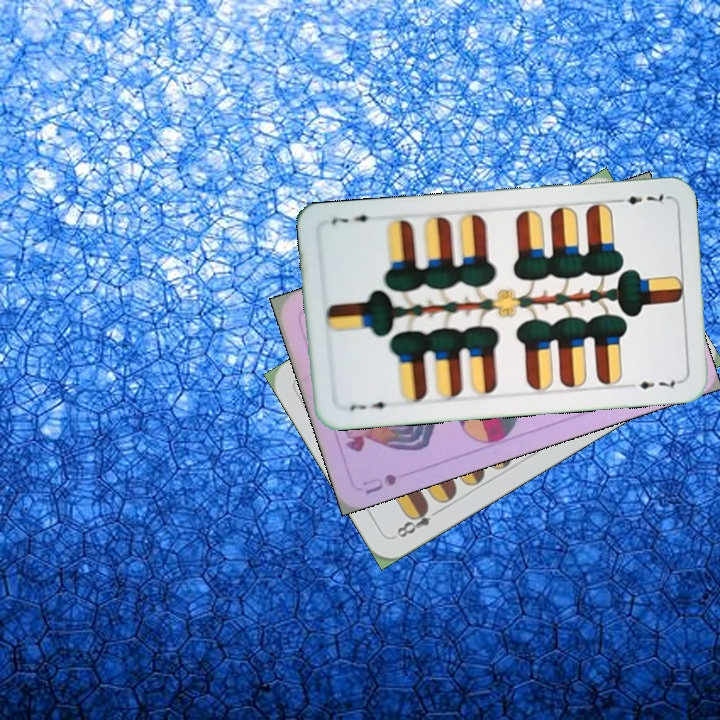E7: (611, 190, 670, 207), (344, 397, 395, 414)
E8: (392, 501, 444, 540)
SU: (358, 469, 400, 497)
